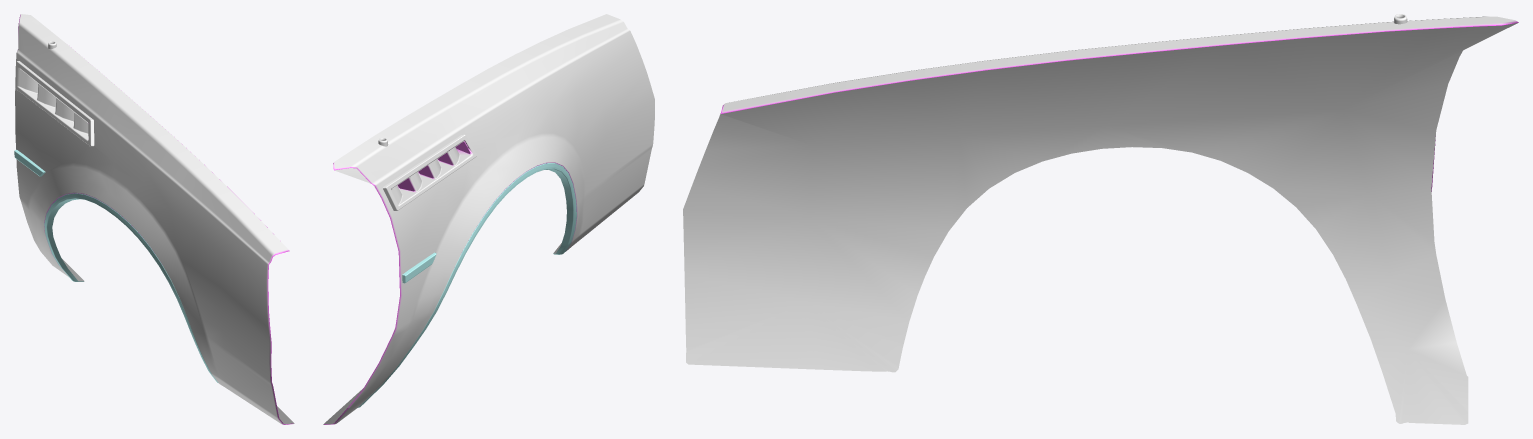
File: Car_Buick_GrandNational_1987_FenderFR_SetA.fbx
The picture shows the model from 3 angles, left to right: view 1: azimuth 30°, elevation 25°; view 2: azimuth 150°, elevation 25°; view 3: azimuth 270°, elevation 25°; orthographic projection. The views are drawn at different scales.
Visible parts, largest first — view 1: FenderFR 6; view 2: FenderFR 6; view 3: FenderFR 6.
Part boxes in pixels (x1,y1,x2,y2): FenderFR 6: (14, 14, 294, 424); FenderFR 6: (323, 14, 654, 424); FenderFR 6: (683, 14, 1518, 424).
Bounding box in the file's own units: 0.2035 × 0.7254 × 1.42.
